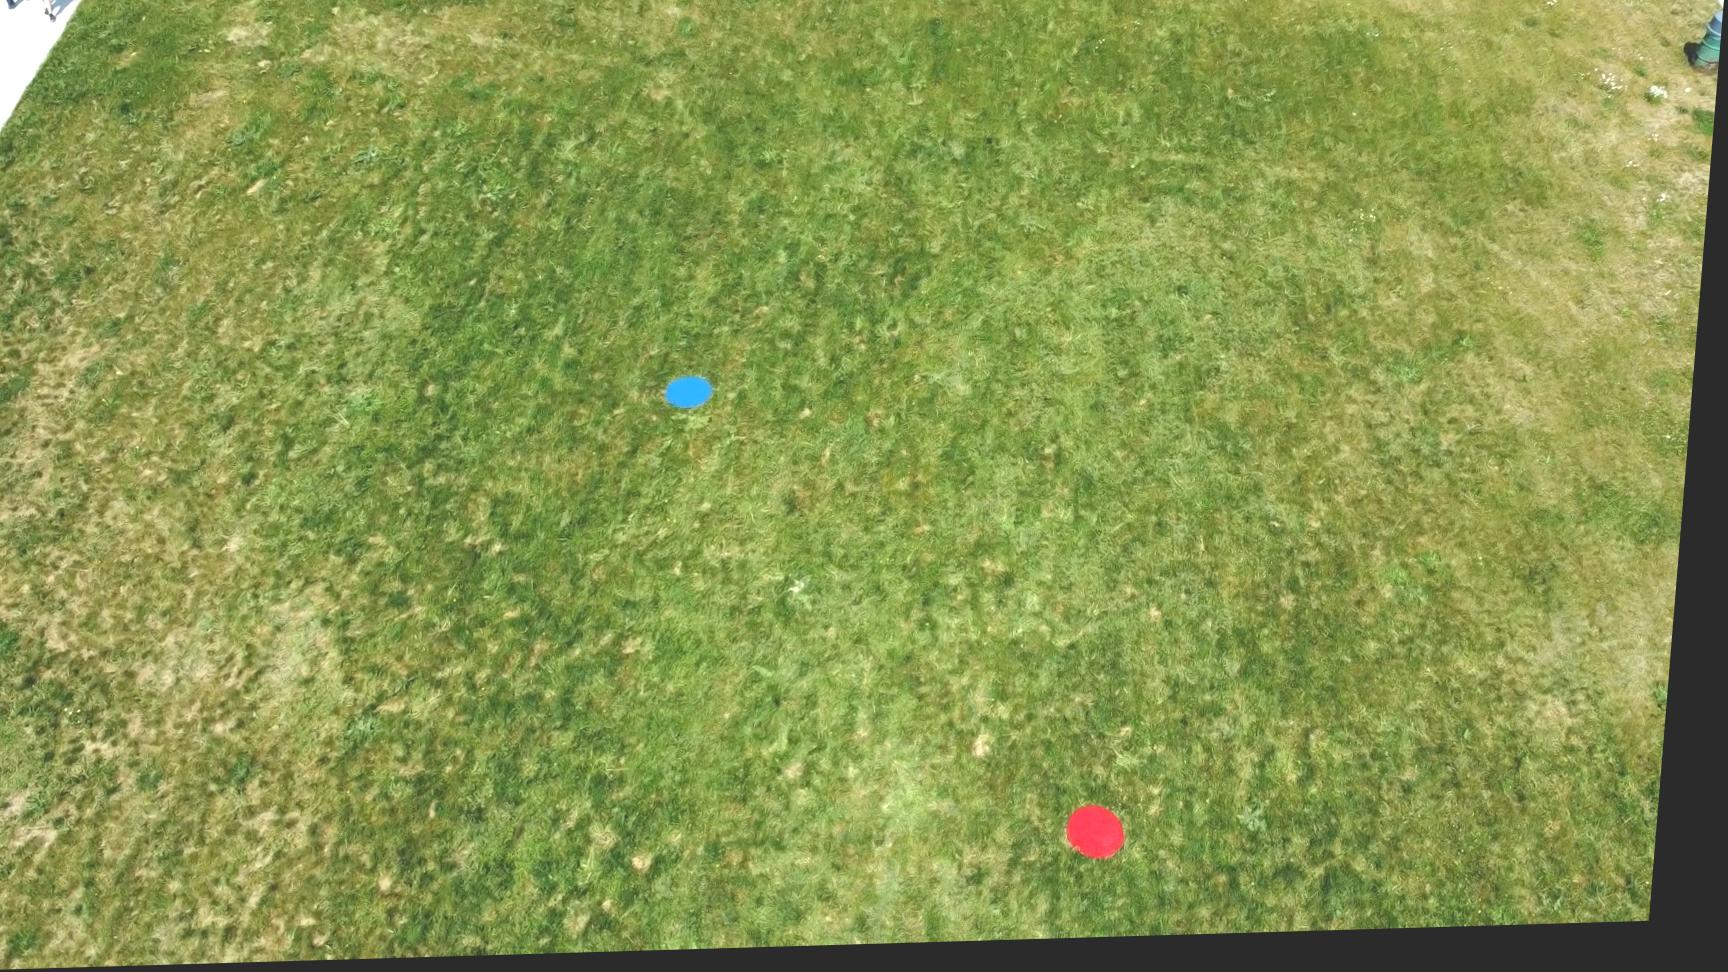Blue: (671, 379, 723, 414)
Red: (1075, 811, 1145, 870)
